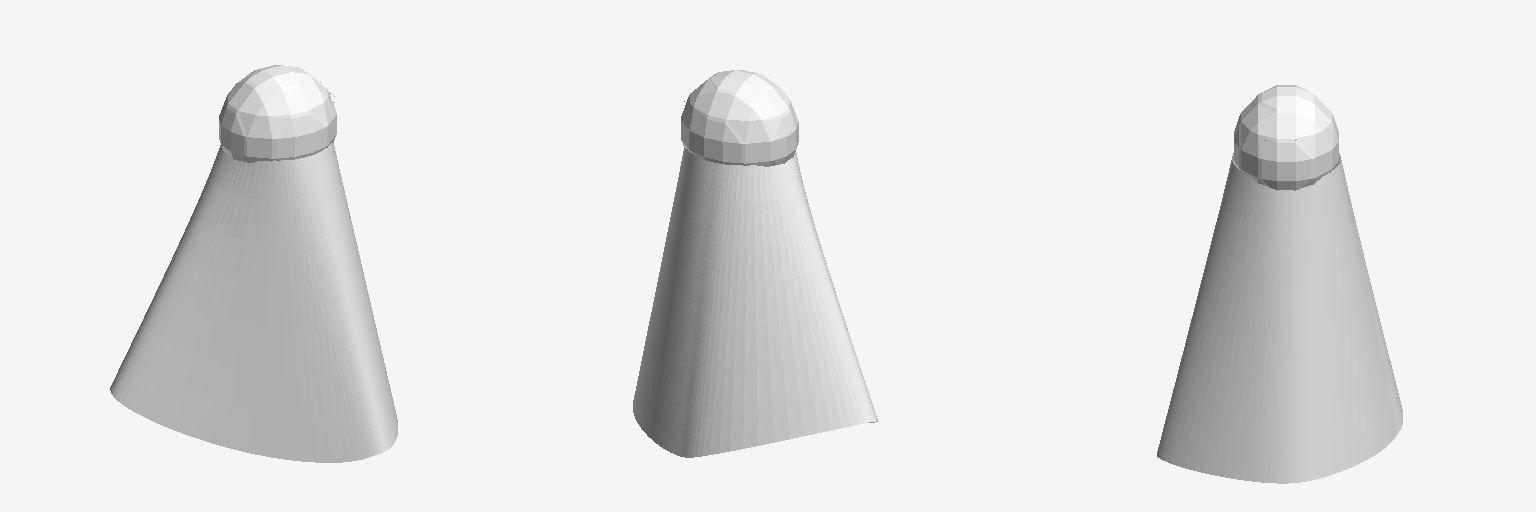
Rendered from ghost2.obj.
3 views of the same model, side by side, from view 1: azimuth 30°, elevation 25°; view 2: azimuth 150°, elevation 25°; view 3: azimuth 270°, elevation 25° (orthographic).
Visible parts, largest first — view 1: Surface, Mball; view 2: Surface, Mball; view 3: Surface, Mball.
Boxes of the visible parts, x1,y1,x2,y2 form: Surface: [110, 142, 397, 462]; Mball: [219, 65, 336, 162]; Surface: [633, 148, 877, 457]; Mball: [681, 70, 798, 166]; Surface: [1157, 153, 1402, 483]; Mball: [1234, 85, 1338, 190].
Size of the model in its own units: 5.36 by 7.2 by 4.55.